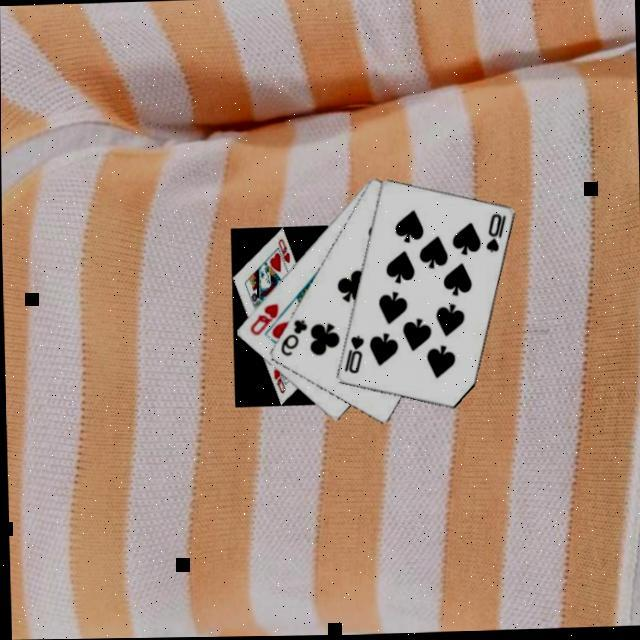10S: (337, 332, 364, 376), (479, 212, 506, 256)
6C: (274, 316, 308, 358)
QH: (244, 299, 278, 338)
